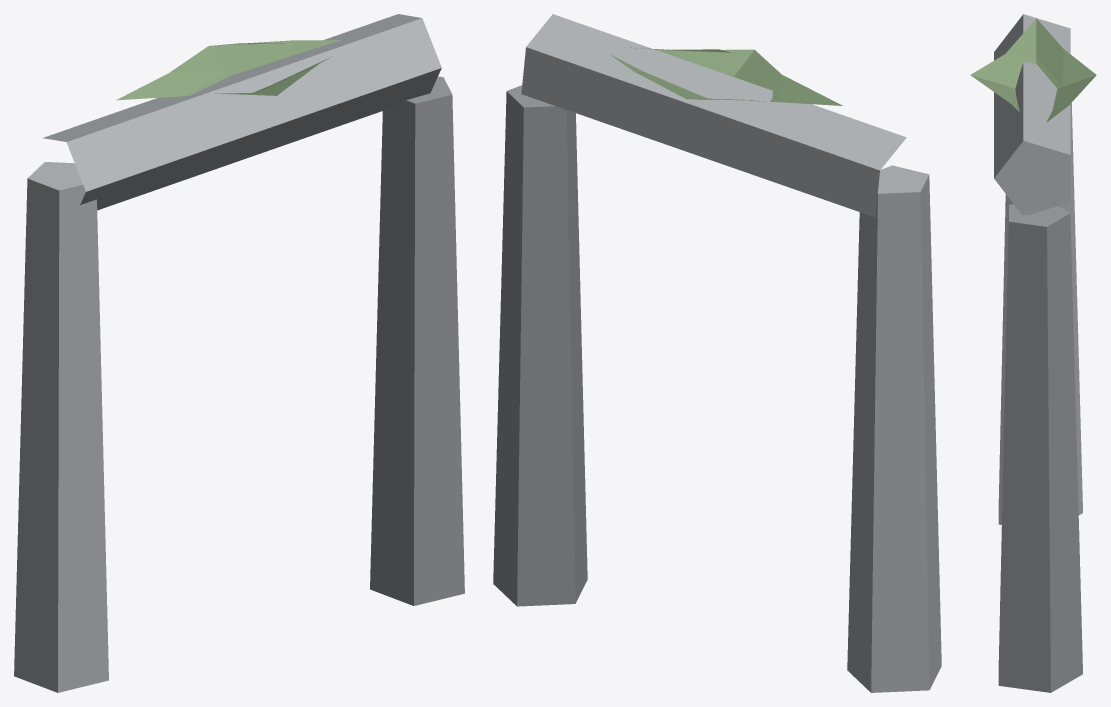
The model's file is arch_rock_v22.glb.
The picture shows the model from 3 angles, left to right: view 1: azimuth 30°, elevation 25°; view 2: azimuth 150°, elevation 25°; view 3: azimuth 270°, elevation 25°; orthographic projection. The views are drawn at different scales.
Parts seen in each view (by area): view 1: lod0; view 2: lod0; view 3: lod0.
Boxes of the visible parts, x1=… form: lod0: x1=14, y1=14, x2=464, y2=692; lod0: x1=493, y1=14, x2=941, y2=692; lod0: x1=970, y1=14, x2=1096, y2=692.
Size of what is drawn, in the model's own units: 2.22 by 2.83 by 0.5978.
